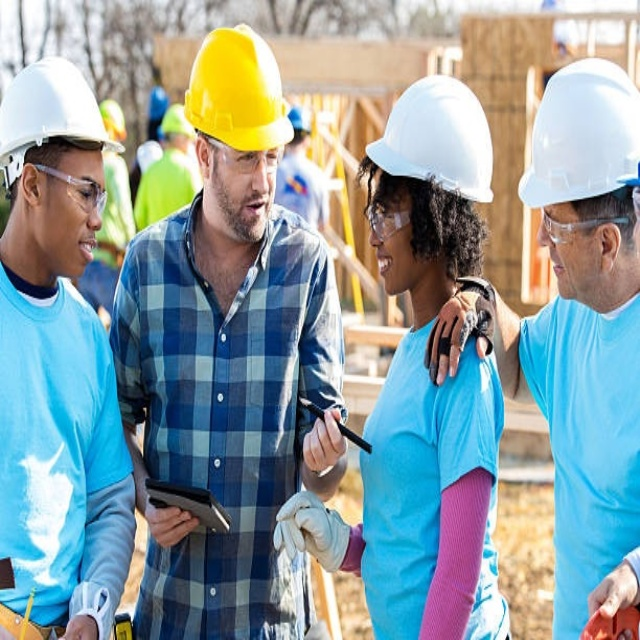Gafas: (31, 162, 108, 213), (199, 129, 283, 174), (541, 205, 628, 240), (367, 201, 414, 237)
Guantes: (427, 278, 501, 381), (273, 486, 352, 571)
Sin_guantes: (584, 554, 633, 629), (143, 496, 200, 552), (305, 403, 347, 471)
Sin_mascara: (66, 232, 100, 275), (547, 248, 577, 295), (372, 245, 399, 295), (239, 196, 271, 237)
